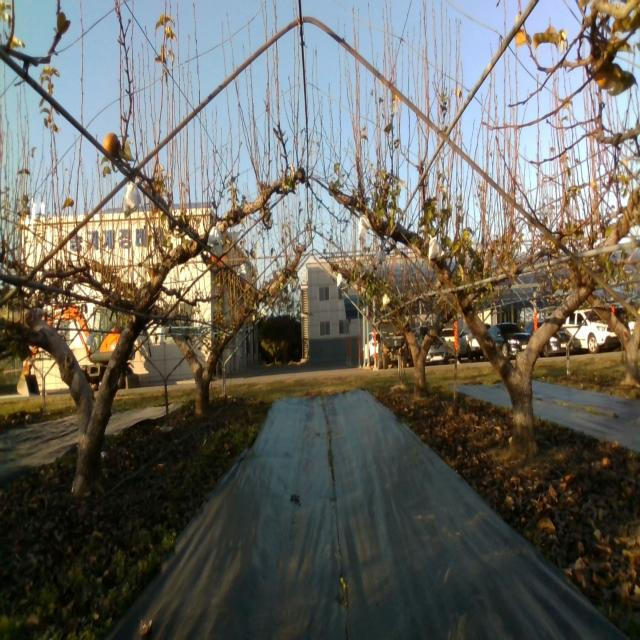pearbags: (123, 176, 141, 221), (428, 234, 444, 260), (207, 222, 221, 248), (358, 213, 372, 236)
